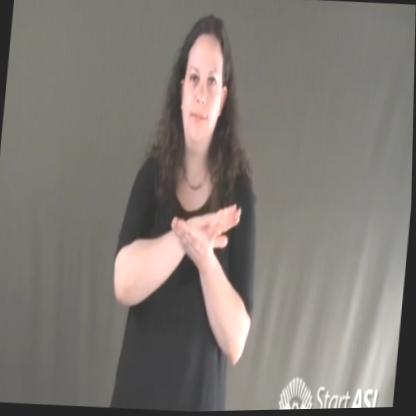NiceToMeetYou: (157, 182, 244, 289)
